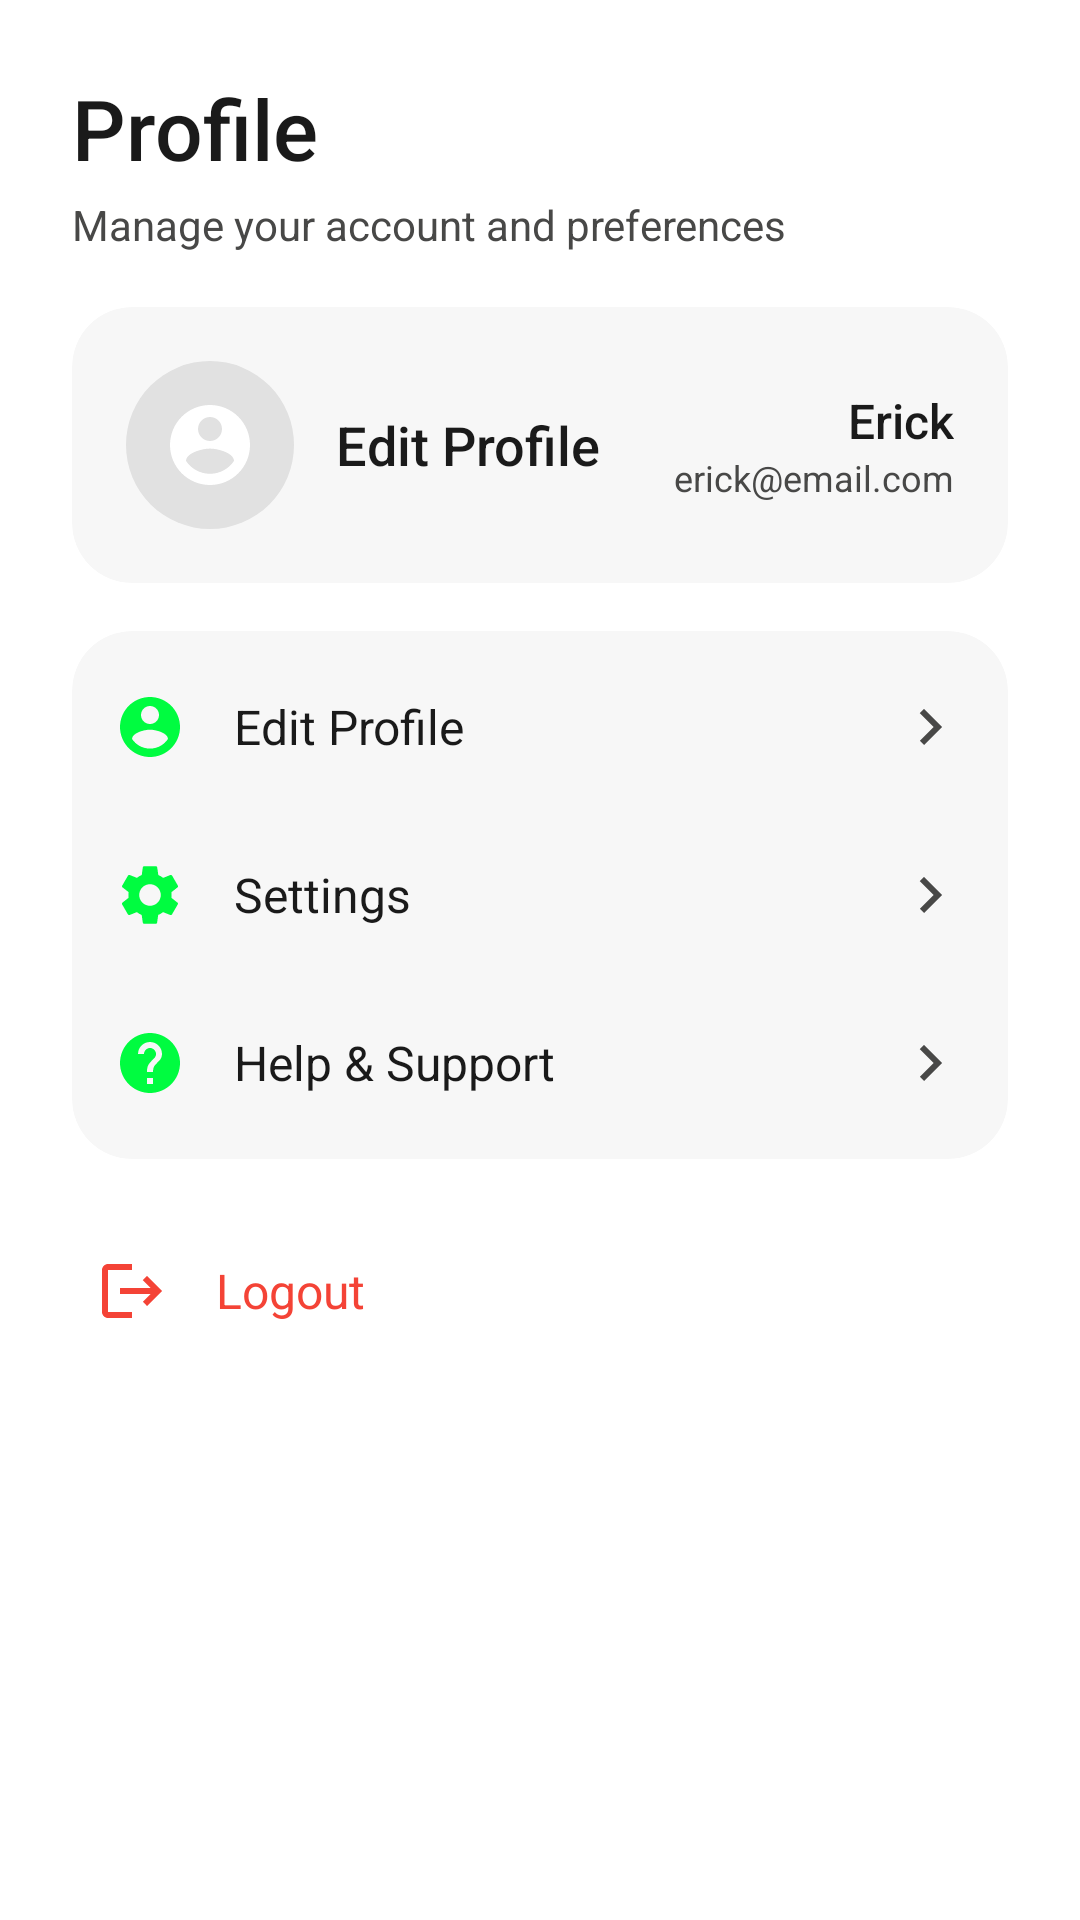

Screen size 1080 × 1920. Icon name, then its center in pixels as (x=x, y=y):
arrow right: (x=931, y=727), (x=931, y=895), (x=931, y=1063)
person: (x=150, y=727)
